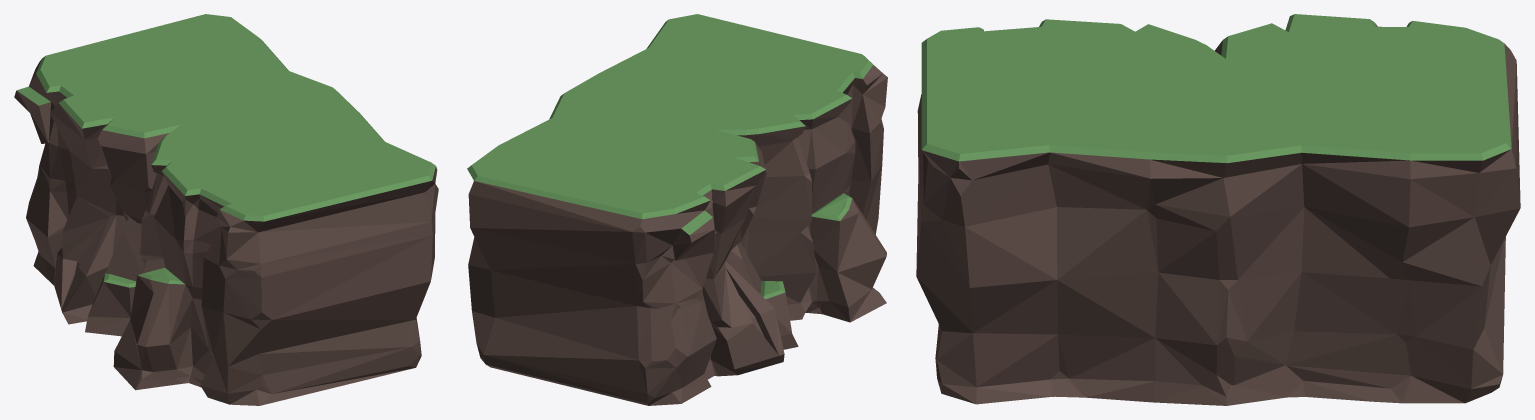
Rendered from Cliff 4.fbx.
3 renders of one model, left to right at view 1: azimuth 30°, elevation 25°; view 2: azimuth 150°, elevation 25°; view 3: azimuth 270°, elevation 25°, orthographic. The views are drawn at different scales.
Visible parts, largest first — view 1: Cliff 10; view 2: Cliff 10; view 3: Cliff 10.
Boxes of the visible parts, <box> form: Cliff 10: <box>14,14,438,405</box>; Cliff 10: <box>467,14,887,405</box>; Cliff 10: <box>916,14,1520,405</box>.
Bounding box in the file's own units: 1.46 × 1.02 × 2.2.
